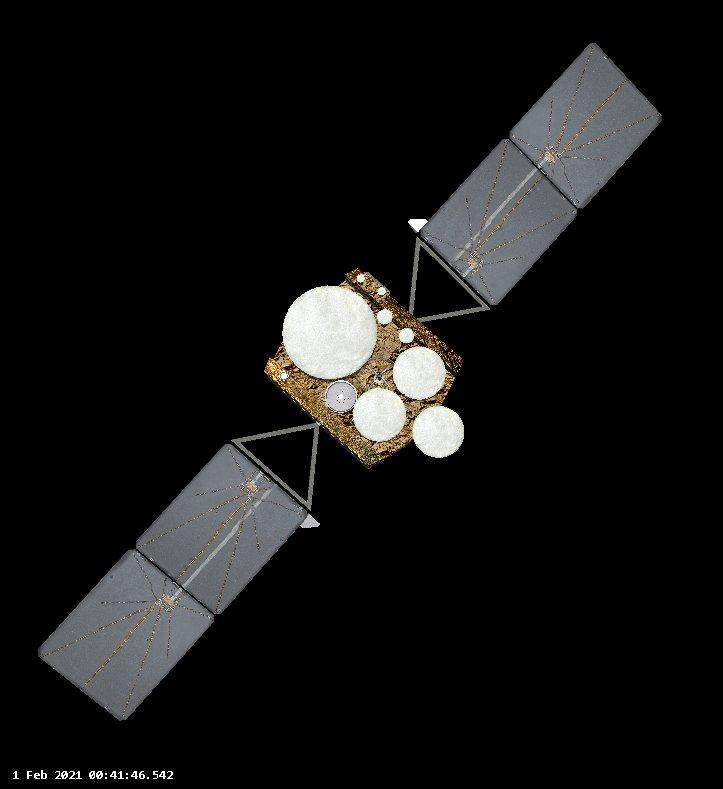antenna: (261, 265, 466, 473), (281, 284, 380, 381), (409, 404, 470, 460), (352, 385, 408, 443), (391, 345, 448, 401), (326, 381, 360, 413), (399, 325, 416, 345), (378, 307, 393, 326), (375, 285, 388, 296), (279, 371, 291, 381), (356, 274, 367, 284)
solar: (35, 440, 315, 724), (417, 40, 665, 308)
thruster: (297, 511, 322, 530), (406, 217, 430, 235)
